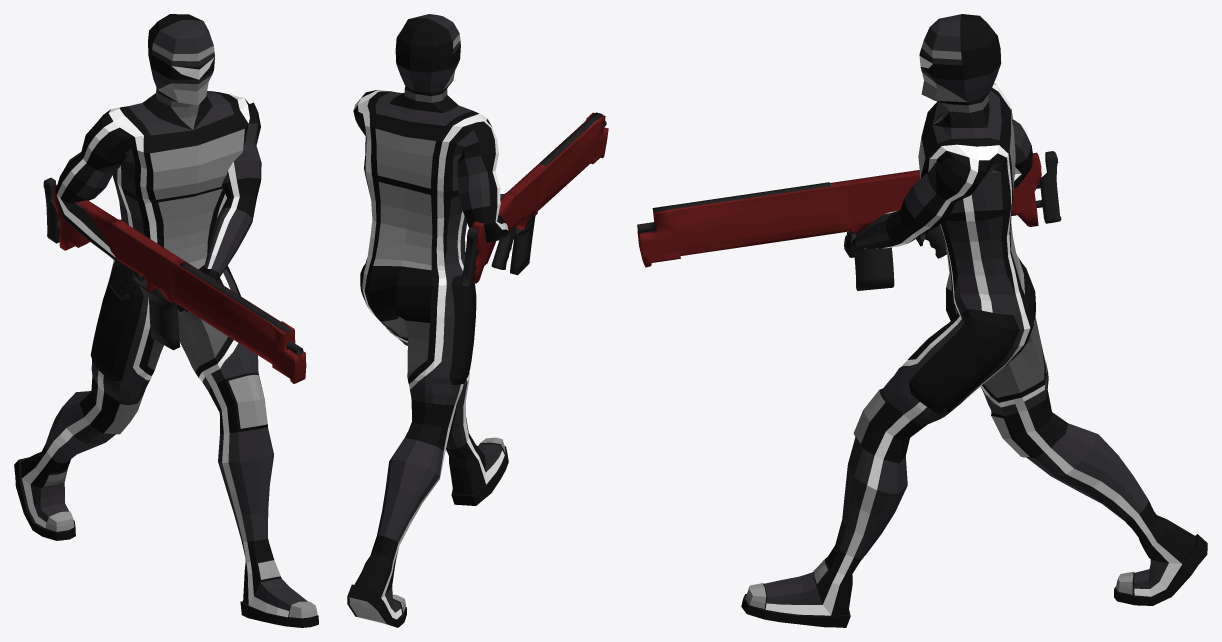
The model's file is ASR7.obj.
The picture shows the model from 3 angles, left to right: view 1: azimuth 30°, elevation 25°; view 2: azimuth 150°, elevation 25°; view 3: azimuth 270°, elevation 25°; orthographic projection. The views are drawn at different scales.
Visible parts, largest first — view 1: metarig_object_metarig_mesh, metarig_object.001_metarig_mesh.001; view 2: metarig_object_metarig_mesh, metarig_object.001_metarig_mesh.001; view 3: metarig_object_metarig_mesh, metarig_object.001_metarig_mesh.001.
Boxes of the visible parts, left/top/right/bottom form: metarig_object_metarig_mesh: left=14, top=14, right=318, bottom=627; metarig_object.001_metarig_mesh.001: left=43, top=177, right=306, bottom=383; metarig_object_metarig_mesh: left=347, top=14, right=508, bottom=627; metarig_object.001_metarig_mesh.001: left=461, top=112, right=608, bottom=288; metarig_object_metarig_mesh: left=741, top=14, right=1207, bottom=627; metarig_object.001_metarig_mesh.001: left=637, top=151, right=1061, bottom=290.
Bounding box in the file's own units: 0.5655 × 1.77 × 1.52.
2 materials, 2 textured.
